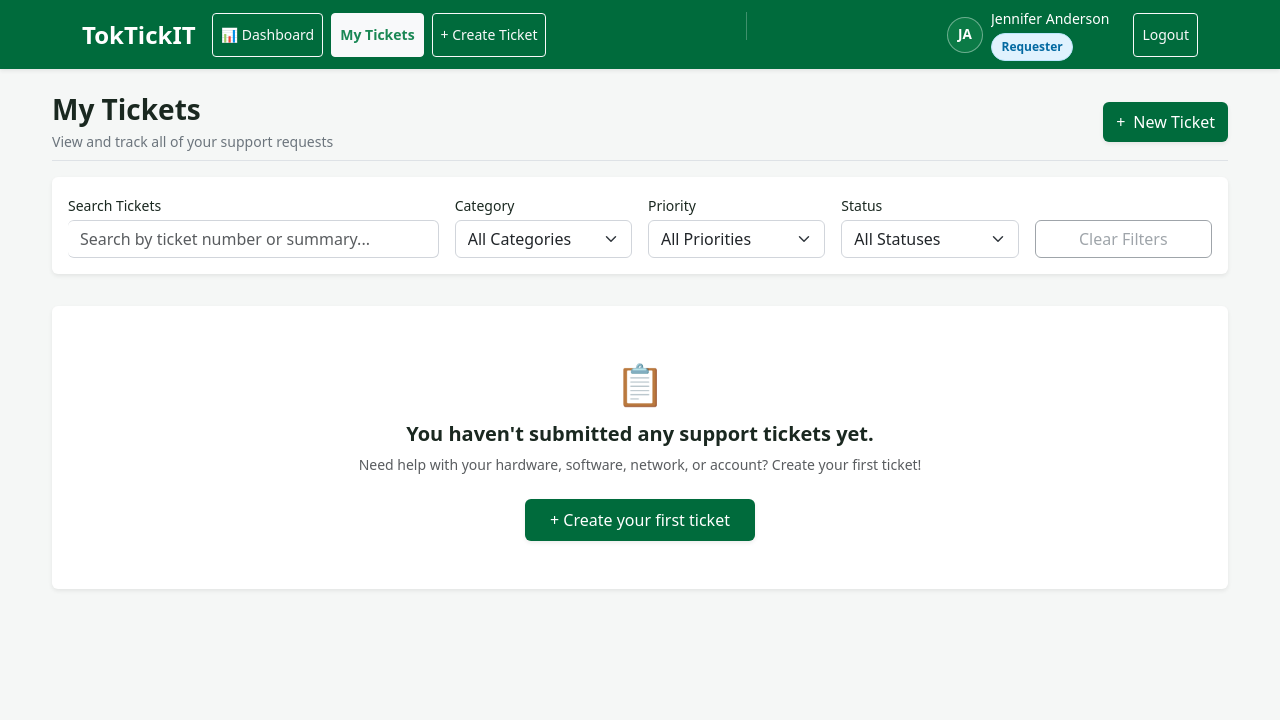
it: App & Navigation Flow (Lab 2 / Lab 3 regression) › clears requester context and returns to selector on 'Change Requester' (AC 4) or Logout
The image size is (1280, 720).
Check: the text "Jennifer Anderson" is shown, box [991,8,1109,29]
Step 1. Click the button "Logout" → [1166, 34], box [1133,12,1198,56]
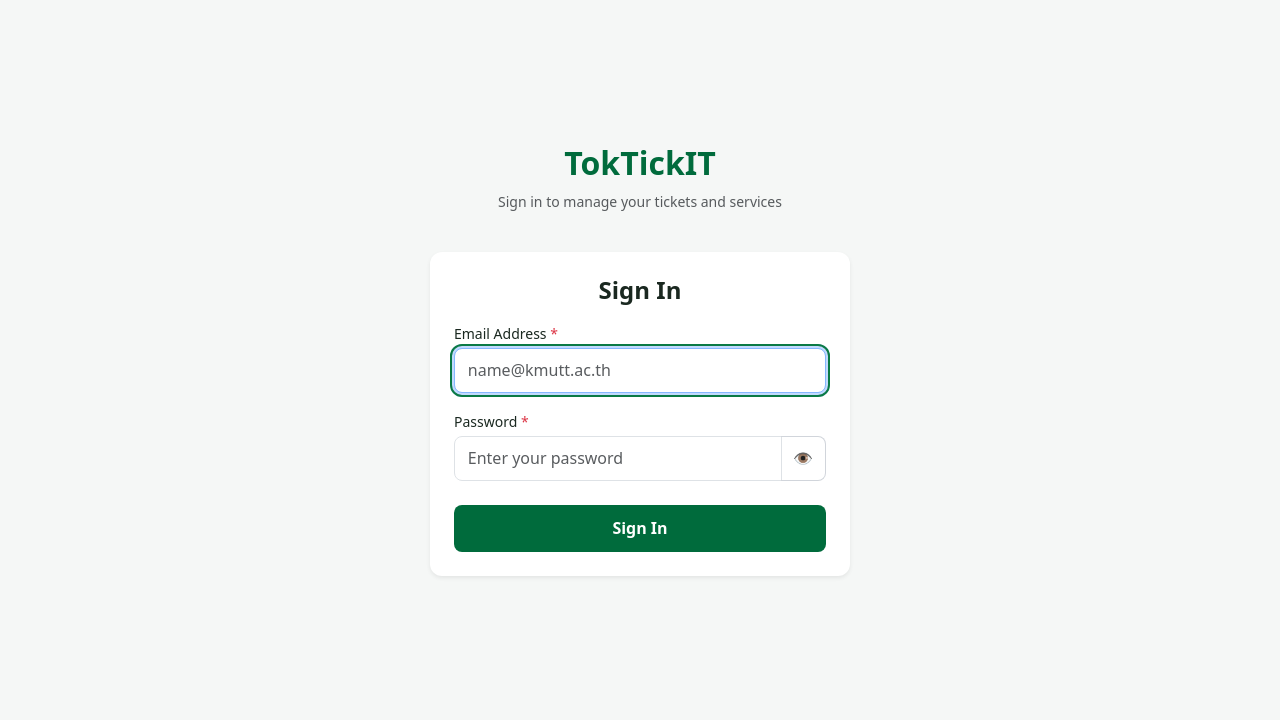
Check: the heading "Sign In" is shown, box [599,273,682,306]
